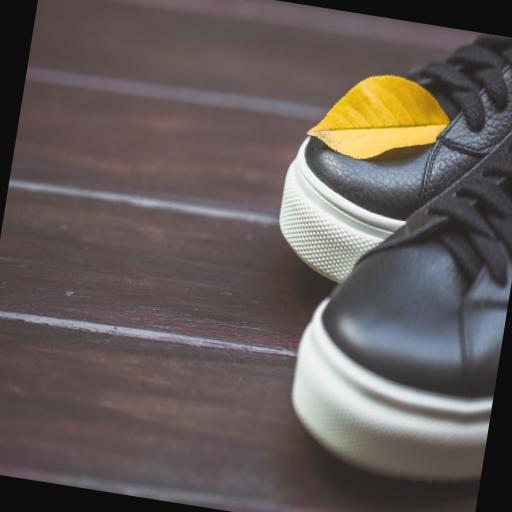shoe: (292, 136, 511, 481), (279, 33, 511, 281)
